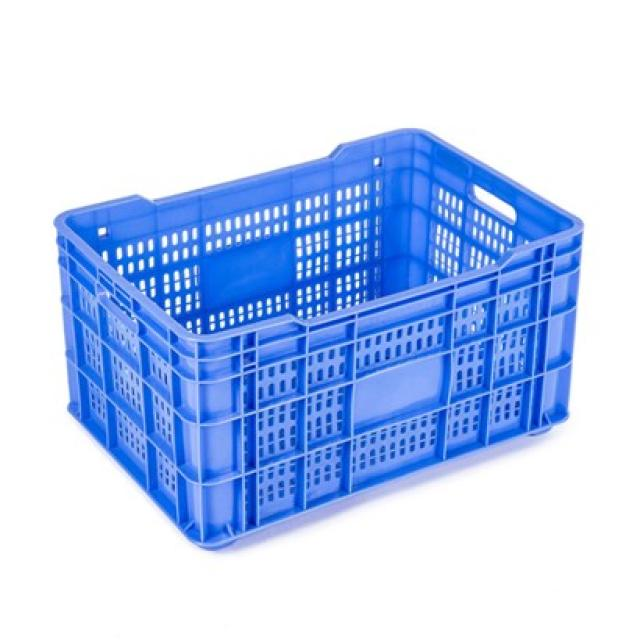basket: (21, 89, 639, 576)
